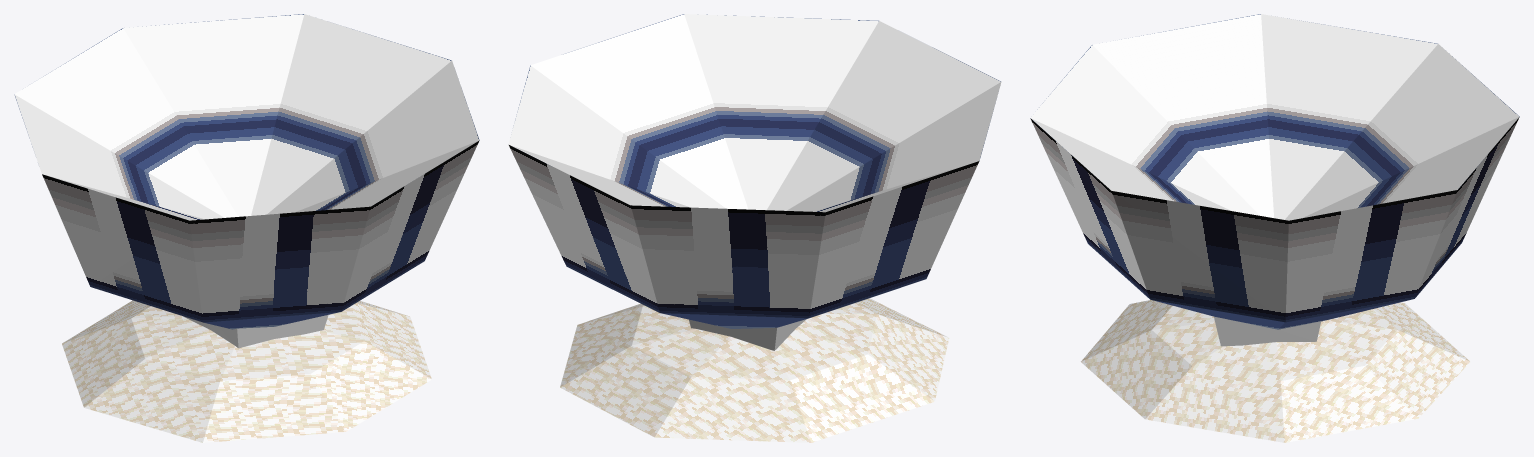
3 renders of one model, left to right at view 1: azimuth 30°, elevation 25°; view 2: azimuth 150°, elevation 25°; view 3: azimuth 270°, elevation 25°, orthographic. The views are drawn at different scales.
Parts seen in each view (by area): view 1: 1380item2770r; view 2: 1380item2770r; view 3: 1380item2770r.
Part boxes in pixels (<box>): 1380item2770r: <box>14,14,479,442</box>; 1380item2770r: <box>508,14,1001,442</box>; 1380item2770r: <box>1030,14,1519,442</box>.
Bounding box in the file's own units: 0.5252 × 0.2896 × 0.5257.
2 materials, 2 textured.
